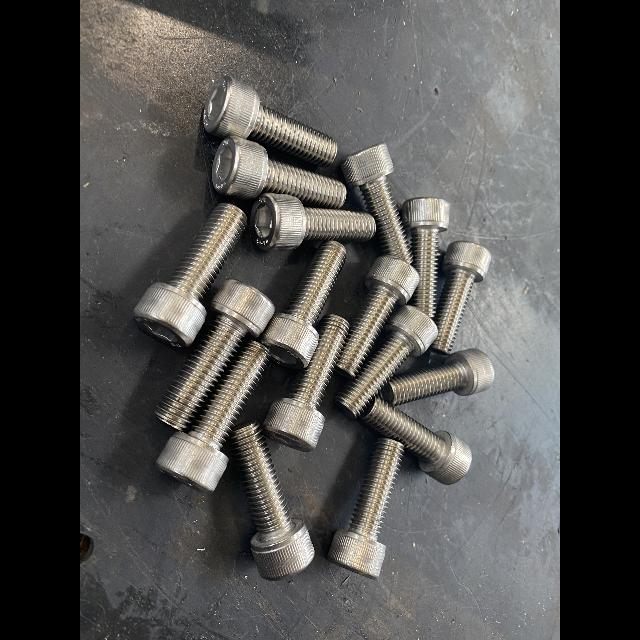Stainless Steel: (156, 278, 274, 428), (156, 339, 270, 490), (133, 204, 245, 348), (231, 422, 314, 579), (204, 77, 336, 165), (263, 315, 348, 451), (260, 240, 346, 369), (337, 305, 437, 414), (328, 438, 403, 578), (337, 257, 421, 379), (362, 396, 472, 485), (210, 136, 345, 206), (340, 144, 411, 262), (251, 193, 375, 250), (433, 241, 491, 353), (382, 349, 494, 405), (403, 197, 452, 317)
